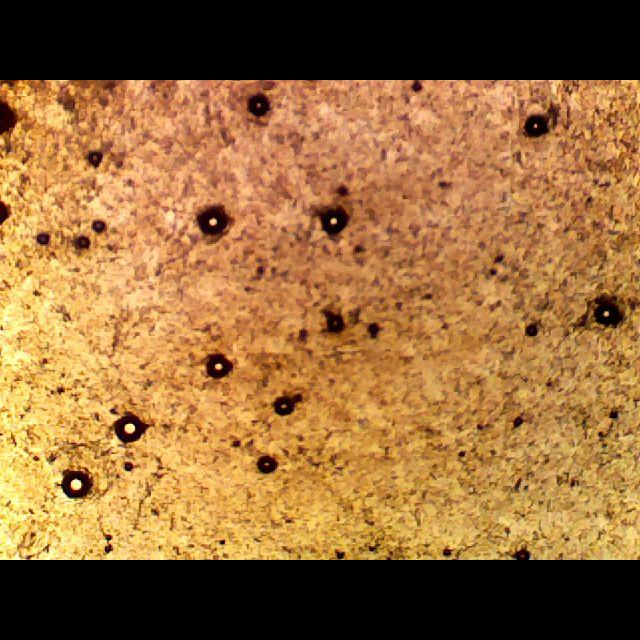microbeads: (193, 198, 234, 236), (112, 410, 144, 446), (320, 206, 352, 236), (61, 469, 90, 501), (594, 300, 622, 328), (206, 351, 232, 377), (245, 94, 273, 118), (256, 449, 282, 473), (523, 114, 547, 136), (274, 396, 296, 416), (86, 148, 104, 168), (34, 230, 52, 248), (70, 234, 90, 250), (92, 214, 106, 236), (524, 324, 538, 338)
